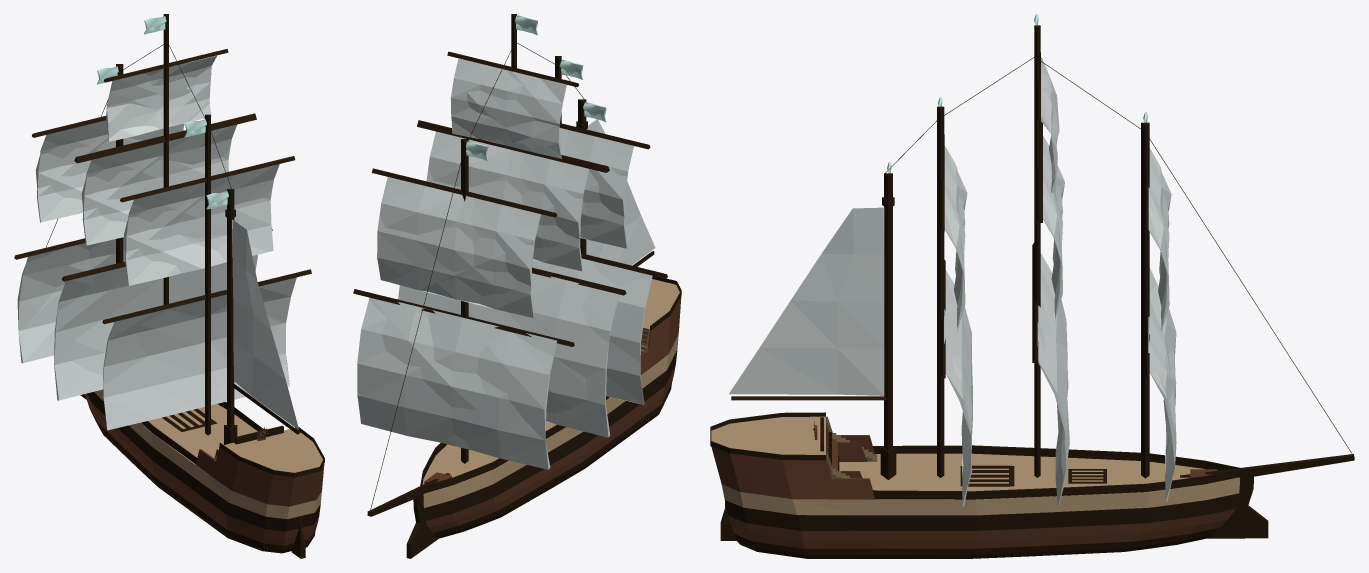
Rendered from Pirate_Ship.fbx.
The picture shows the model from 3 angles, left to right: view 1: azimuth 30°, elevation 25°; view 2: azimuth 150°, elevation 25°; view 3: azimuth 270°, elevation 25°; orthographic projection. The views are drawn at different scales.
Parts seen in each view (by area): view 1: Cube, Cube_1, boat, Cube_4, Cube_2, Cube_7, Cube_3, Cube_6, Cube_5, Loft_1, Cap_2_4, Cap_2_5 (+10 smaller); view 2: Cube_6, Cube_5, Cube_4, boat, Cube_2, Cube_3, Cube, Cube_1, Cube_7, Cap_2_5, Loft_1, Cap_2_4 (+13 smaller); view 3: boat, Cube_7, Cap_2_5, Loft_1, Sweep_2_2, Cube_4, Cube, Cap_2_4, Cube_6, Cylinder_2, Cylinder_2_3, Cylinder_2_4 (+10 smaller).
Boxes of the visible parts, <box> form: Cube: <box>103,277,296,430</box>; Cube_1: <box>124,164,279,285</box>; boat: <box>84,389,321,553</box>; Cube_4: <box>54,254,257,400</box>; Cube_2: <box>81,124,236,245</box>; Cube_7: <box>232,219,298,429</box>; Cube_3: <box>106,55,217,141</box>; Cube_6: <box>17,237,125,363</box>; Cube_5: <box>35,120,184,222</box>; Loft_1: <box>195,447,324,506</box>; Cap_2_4: <box>224,428,322,472</box>; Cap_2_5: <box>141,404,257,473</box>; Cube_6: <box>357,297,556,469</box>; Cube_5: <box>377,177,540,317</box>; Cube_4: <box>398,273,619,437</box>; boat: <box>423,334,678,538</box>; Cube_2: <box>426,131,589,271</box>; Cube_3: <box>450,58,566,158</box>; Cube: <box>532,258,652,404</box>; Cube_1: <box>559,128,633,248</box>; Cube_7: <box>586,119,655,265</box>; Cap_2_5: <box>422,373,643,493</box>; Loft_1: <box>640,296,681,374</box>; Cap_2_4: <box>643,279,679,329</box>; boat: <box>721,477,1240,558</box>; Cube_7: <box>729,207,884,395</box>; Cap_2_5: <box>839,453,1238,499</box>; Loft_1: <box>711,418,874,499</box>; Sweep_2_2: <box>872,445,1243,496</box>; Cube_4: <box>1037,253,1069,508</box>; Cube: <box>944,270,973,506</box>; Cap_2_4: <box>711,416,825,454</box>; Cube_6: <box>1148,267,1176,501</box>; Cylinder_2: <box>1141,122,1149,478</box>; Cylinder_2_3: <box>937,106,944,477</box>; Cylinder_2_4: <box>884,173,892,450</box>.
Bounding box in the file's own units: 2019 × 4146 × 4668.
